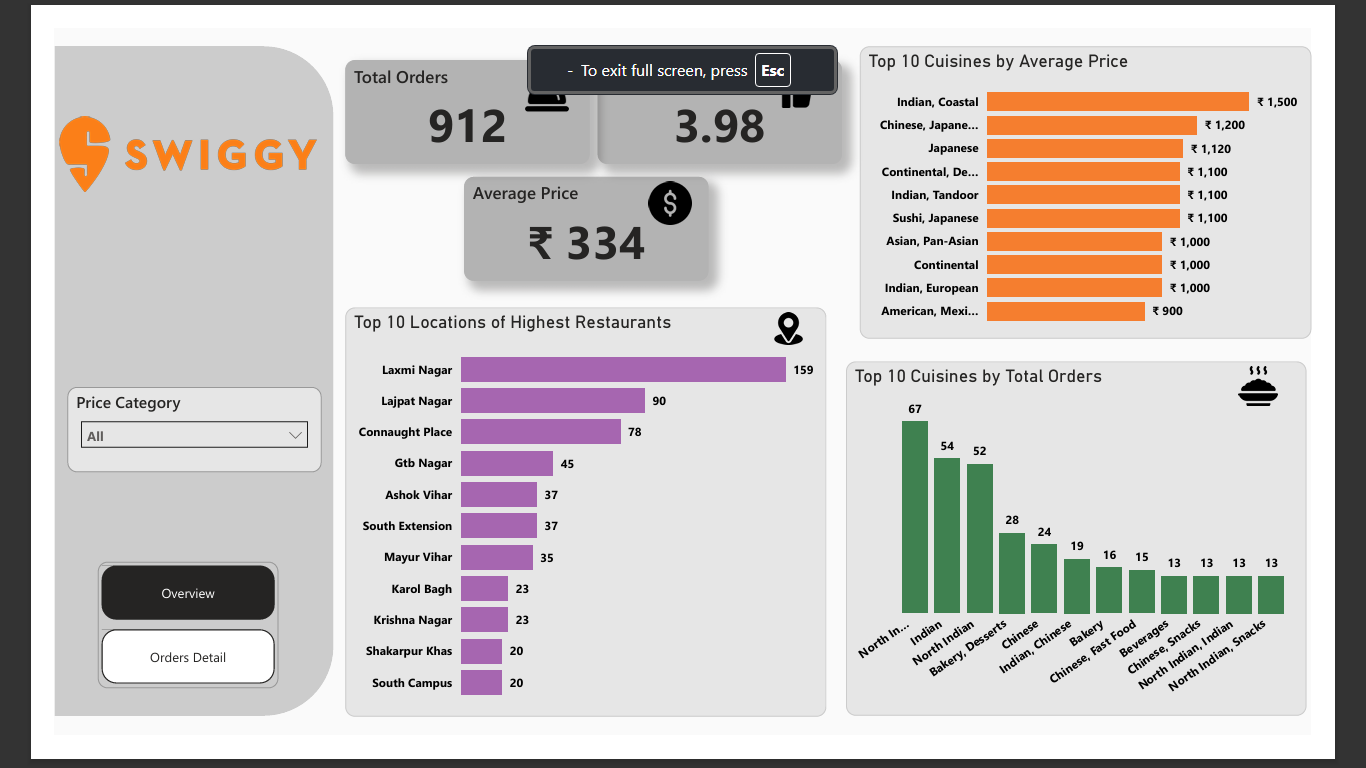

The dashboard page shown, as its layout file describes it:
{"tool":"powerbi","page":{"name":"Overview","canvas":[1280,720],"ordinal":0},"visuals":[{"type":"shape","box":[0,18.5,283.9,682],"z":0},{"type":"columnChart","title":"Top 10 Cuisines by Total Orders","fields":{"Category":["rest_delhi1.Cuisine"],"Y":["Measures (2).Total Orders"]},"box":[806.3,339.3,468.7,361.2],"z":0,"group":"g5"},{"type":"barChart","title":"Top 10 Cuisines by Average Price","fields":{"Category":["rest_delhi1.Cuisine"],"Y":["Measures (2).Average Price"]},"box":[819.7,18.5,460.3,297.3],"z":1000},{"type":"image","box":[0,65.5,272.1,124.3],"z":2000},{"type":"barChart","title":"Top 10 Locations of Highest Restaurants","fields":{"Category":["rest_delhi1.Place"],"Y":["CountNonNull(rest_delhi1.Name)"]},"box":[295.6,283.9,490.5,416.6],"z":2000,"group":"g4"},{"type":"group","id":"g1","title":"Group 1","box":[416.6,151.2,248.6,105.8],"z":3000},{"type":"card","title":"Average Price","fields":{"Values":["Measures (2).Average Price"]},"box":[416.6,151.2,248.6,105.8],"z":3000,"group":"g1"},{"type":"card","title":"Total Orders","fields":{"Values":["Measures (2).Total Orders"]},"box":[295.6,31.9,248.6,105.8],"z":4000,"group":"g3"},{"type":"group","id":"g2","title":"Group 2","box":[552.7,31.9,248.6,105.8],"z":4000},{"type":"group","id":"g3","title":"Group 3","box":[295.6,31.9,248.6,105.8],"z":5000},{"type":"card","title":"Average Rating","fields":{"Values":["Measures (2).Average Rating"]},"box":[552.7,31.9,248.6,105.8],"z":6000,"group":"g2"},{"type":"group","id":"g4","title":"Group 4","box":[295.6,283.9,490.5,416.6],"z":6000},{"type":"group","id":"g5","title":"Group 5","box":[806.3,339.3,468.7,361.2],"z":7000},{"type":"image","box":[461.9,31.9,79,67.2],"z":7001,"group":"g3"},{"type":"image","box":[707.2,31.9,94.1,53.8],"z":7002,"group":"g2"},{"type":"image","box":[586.3,151.2,79,53.8],"z":7003,"group":"g1"},{"type":"image","box":[707.1,283.9,79,43],"z":7007,"group":"g4"},{"type":"image","box":[1177.5,339.3,97.4,49.9],"z":7009,"group":"g5"},{"type":"slicer","title":"Price Category","fields":{"Values":["rest_delhi1.price_category"]},"box":[13.4,364.5,258.7,87.3],"z":8000},{"type":"pageNavigator","box":[43.7,542.6,184.8,129.3],"z":8001}]}

Visuals, with their boxes on the page's 1280x720 design canvas (x1, y1, x2, y2). These are canvas units, not pixel positions in the 1366x768 screenshot, which may show the page scaled, cropped or inside an application window:
shape: 0/18/284/700
"Top 10 Cuisines by Total Orders" columnChart: 806/339/1275/700
"Top 10 Cuisines by Average Price" barChart: 820/18/1280/316
image: 0/66/272/190
"Top 10 Locations of Highest Restaurants" barChart: 296/284/786/700
"Group 1" group: 417/151/665/257
"Average Price" card: 417/151/665/257
"Total Orders" card: 296/32/544/138
"Group 2" group: 553/32/801/138
"Group 3" group: 296/32/544/138
"Average Rating" card: 553/32/801/138
"Group 4" group: 296/284/786/700
"Group 5" group: 806/339/1275/700
image: 462/32/541/99
image: 707/32/801/86
image: 586/151/665/205
image: 707/284/786/327
image: 1178/339/1275/389
"Price Category" slicer: 13/364/272/452
pageNavigator: 44/543/228/672
